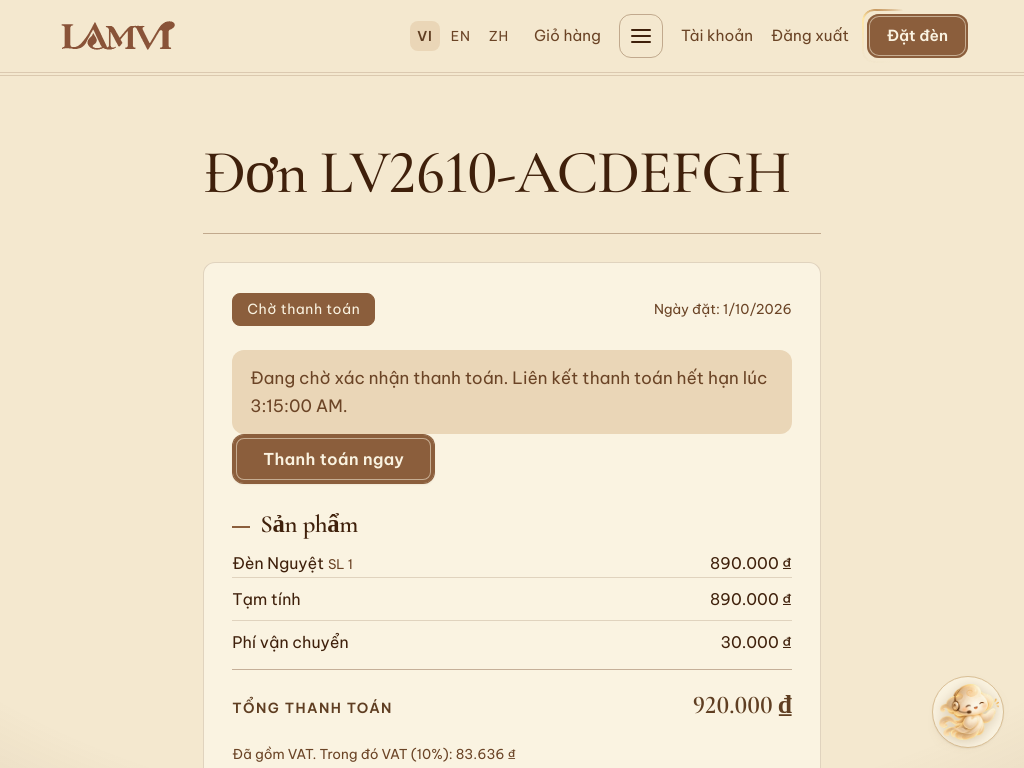
Test case: Trang đơn — nút "Thanh toán ngay" (FR-PAY-001) › cổng trả về lỗi (không có checkoutUrl) → báo lỗi, không chuyển hướng
Click the button "Thanh toán ngay".
click(334, 459)  # box [232,434,435,484]
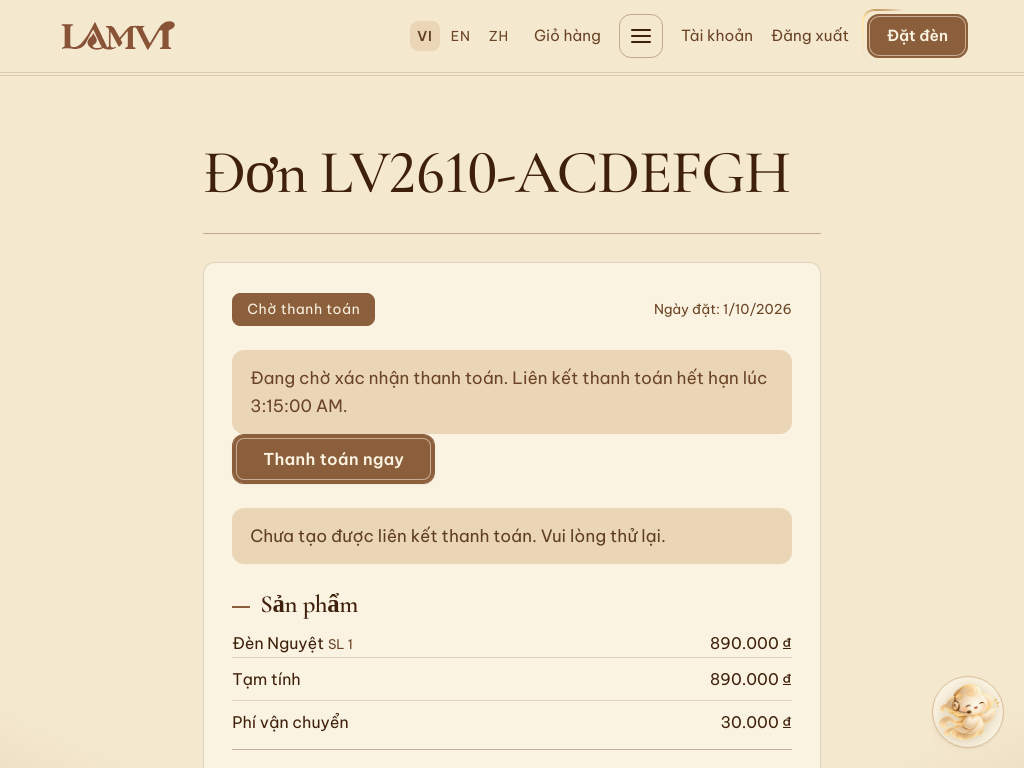
expect the message "Chưa tạo được liên kết thanh toán. Vui lòng thử lại." is shown: met, box [232,508,792,564]
